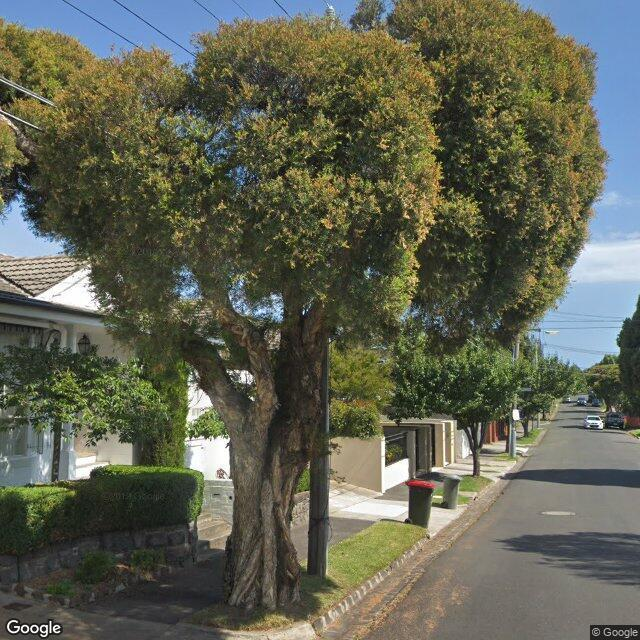streetlight: (529, 328, 560, 335)
timber-pole: (306, 337, 330, 578), (509, 334, 520, 458)
